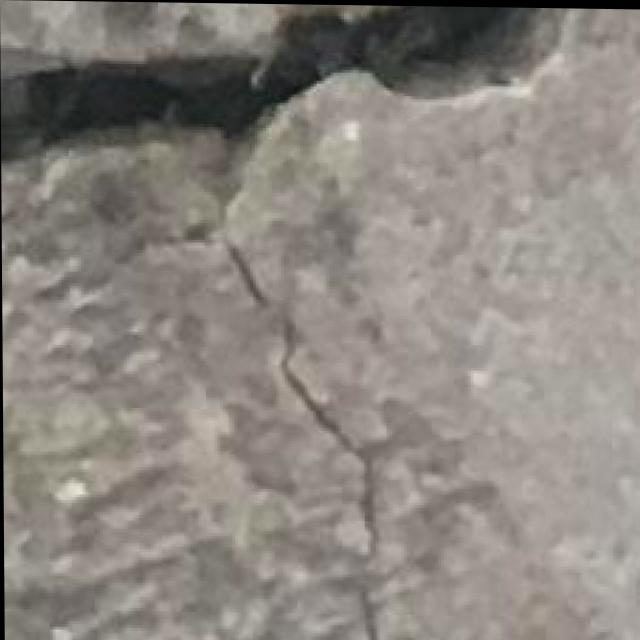Crack: (6, 3, 568, 213), (221, 237, 399, 640), (10, 217, 224, 308)
